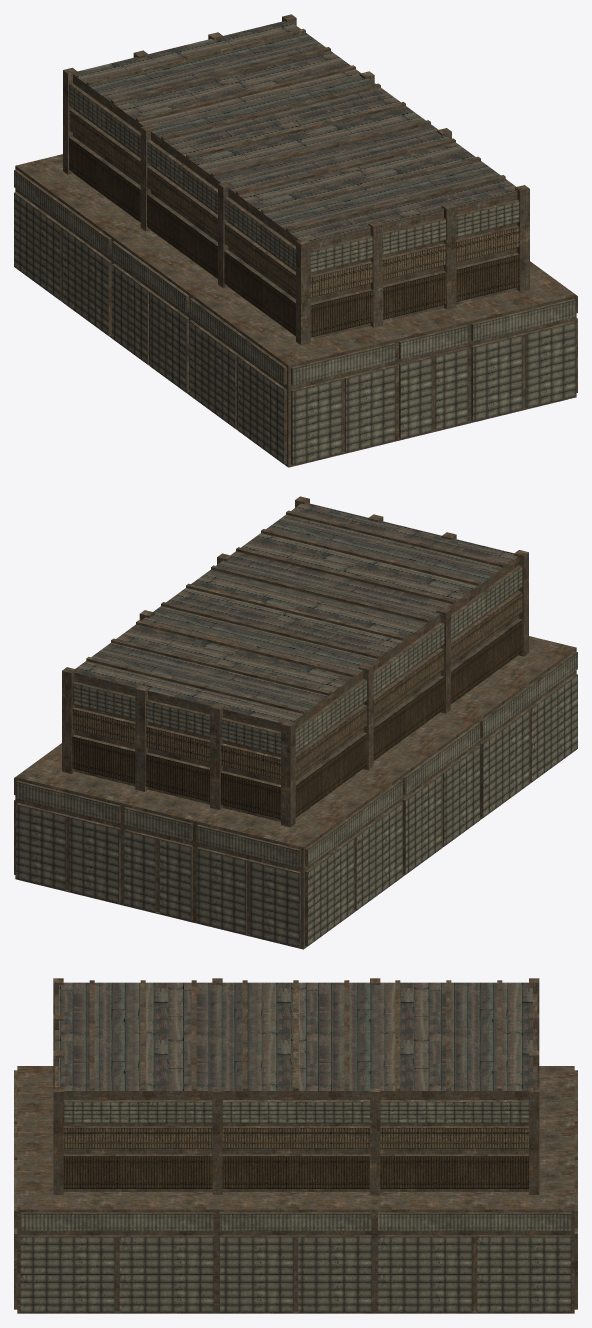
The model's file is Dojo.FBX.
3 views of the same model, one above another, from view 1: azimuth 30°, elevation 25°; view 2: azimuth 150°, elevation 25°; view 3: azimuth 270°, elevation 25° (orthographic). The views are drawn at different scales.
Visible parts, largest first — view 1: dojo; view 2: dojo; view 3: dojo.
Boxes of the visible parts, box(x1,y1,x2,y2) form: dojo: box(14, 14, 577, 467); dojo: box(14, 496, 577, 949); dojo: box(14, 978, 577, 1313).
Bounding box in the file's own units: 483 × 321 × 787.
